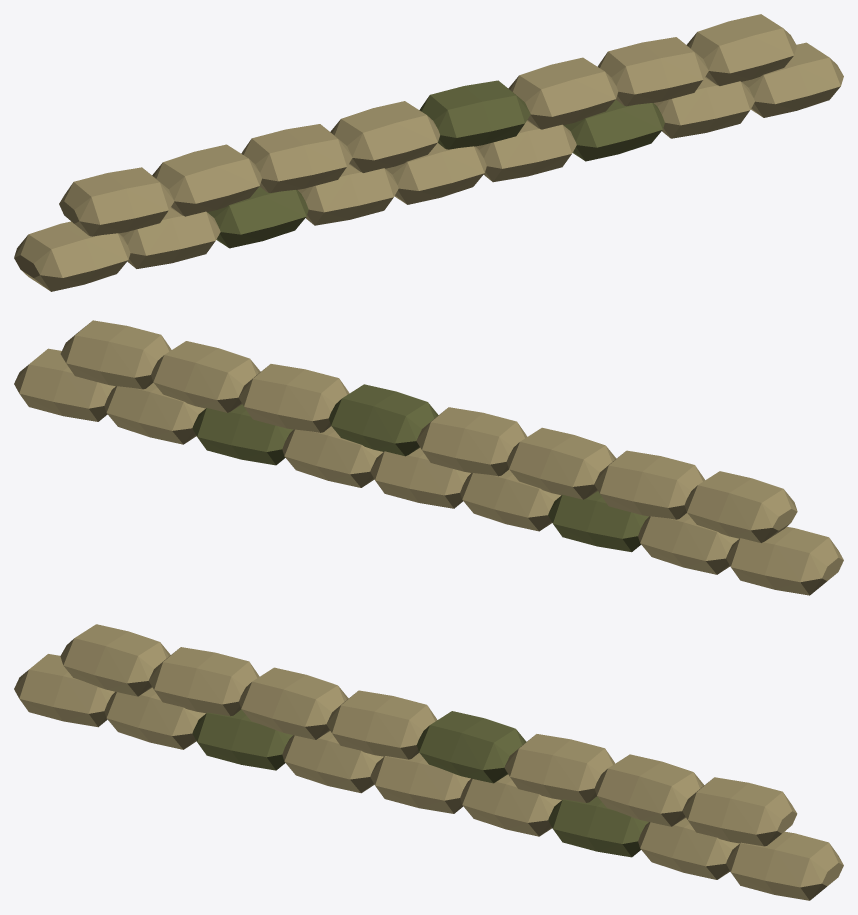
File: sandbags_line.glb
3 renders of one model, top to bottom at view 1: azimuth 30°, elevation 25°; view 2: azimuth 150°, elevation 25°; view 3: azimuth 330°, elevation 25°, orthographic.
Parts seen in each view (by area): view 1: sandbags_line; view 2: sandbags_line; view 3: sandbags_line.
Boxes of the visible parts, box(x1,y1,x2,y2) form: sandbags_line: box(14, 14, 843, 291); sandbags_line: box(14, 320, 843, 595); sandbags_line: box(14, 624, 843, 900).
Size of what is drawn, in the model's own units: 4.04 by 0.4072 by 0.3813.
1 material, 1 textured.
